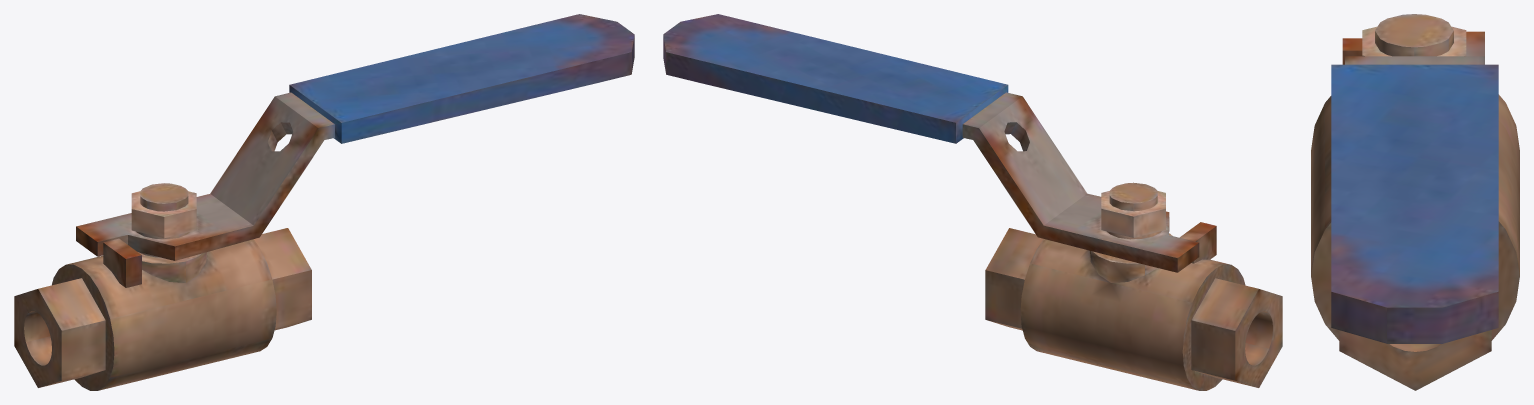
Rendered from small_copper_pipe_12.glb.
3 views of the same model, side by side, from view 1: azimuth 30°, elevation 25°; view 2: azimuth 150°, elevation 25°; view 3: azimuth 270°, elevation 25° (orthographic). The views are drawn at different scales.
Parts seen in each view (by area): view 1: small_copper_pipe_12; view 2: small_copper_pipe_12; view 3: small_copper_pipe_12.
Boxes of the visible parts, x1,y1,x2,y2 form: small_copper_pipe_12: (14,14,634,390); small_copper_pipe_12: (663,14,1282,390); small_copper_pipe_12: (1311,14,1519,390).
Size of what is drawn, in the model's own units: 0.1054 by 0.0388 by 0.0202.
Materials: 1 (1 with a texture image).
